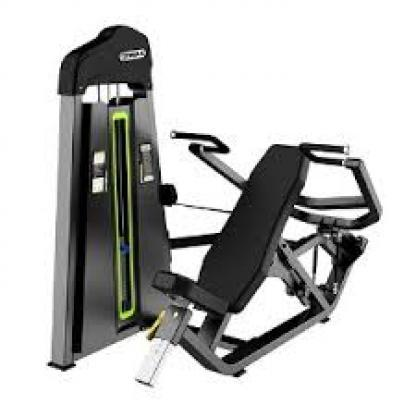shoulder press machine: (42, 19, 388, 393)
